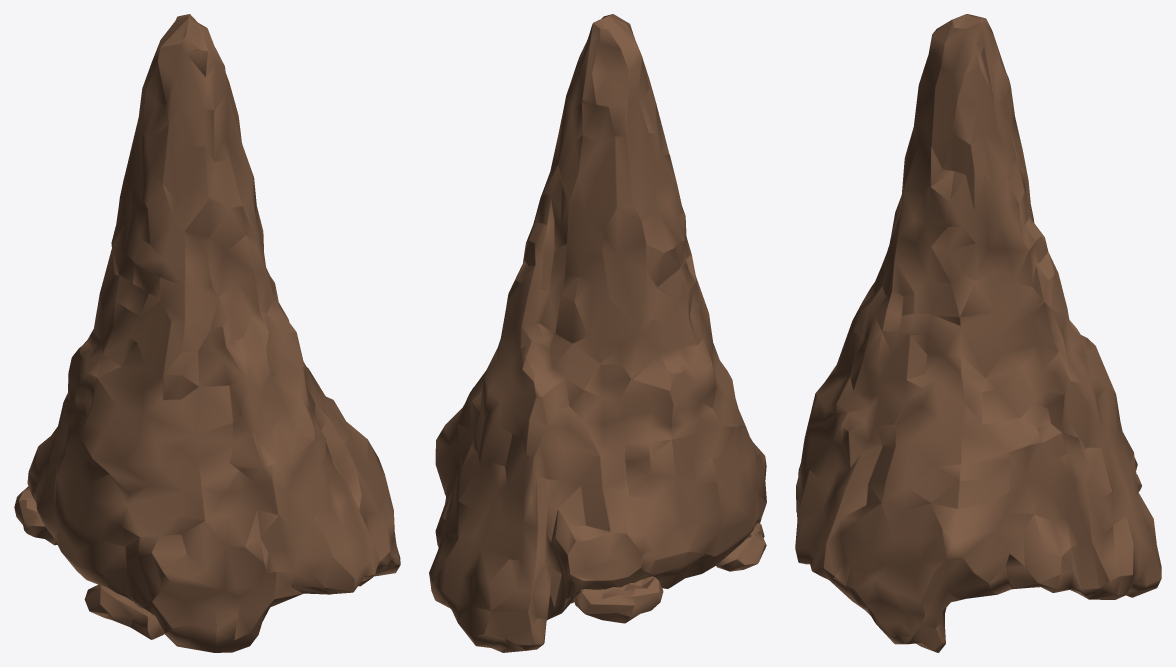
Rendered from env_undergroundrock_vaultrock01.fbx.
3 renders of one model, left to right at view 1: azimuth 30°, elevation 25°; view 2: azimuth 150°, elevation 25°; view 3: azimuth 270°, elevation 25°, orthographic. The views are drawn at different scales.
Visible parts, largest first — view 1: Cone.025; view 2: Cone.025; view 3: Cone.025.
Part boxes in pixels (x1,y1,x2,y2): Cone.025: (14,14,400,652); Cone.025: (429,14,766,652); Cone.025: (795,14,1161,652).
Size of the model in its own units: 105 by 191 by 112.
